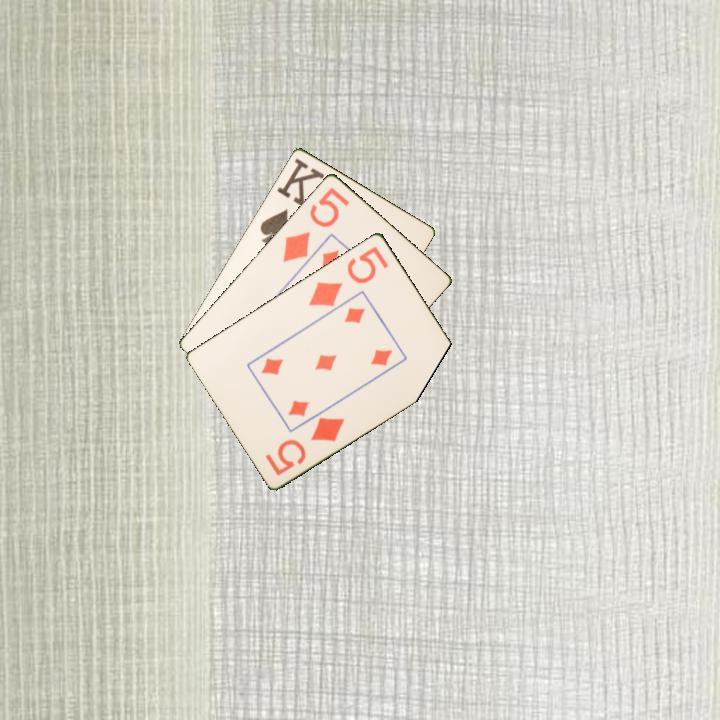5d: (279, 183, 352, 265), (305, 242, 392, 309), (262, 413, 348, 478)
Ks: (256, 154, 327, 249)
